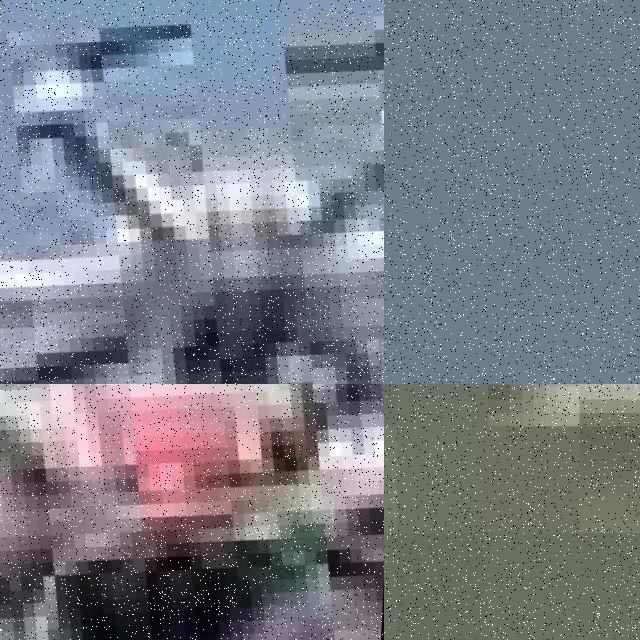drone: (0, 0, 384, 384), (0, 384, 384, 640)
